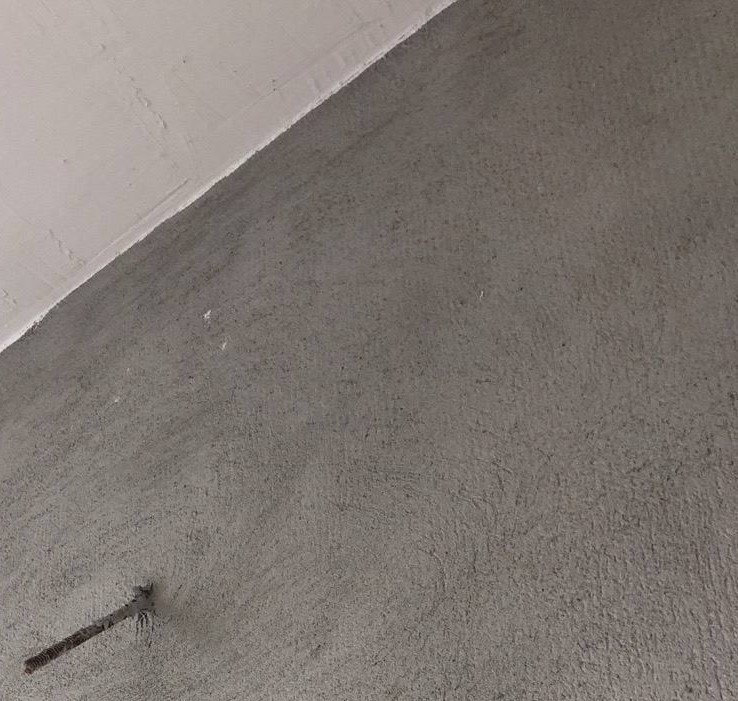Exposed reinforcement: (22, 582, 156, 675)
